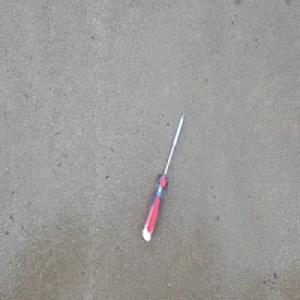Screwdriver: (141, 106, 186, 243)
